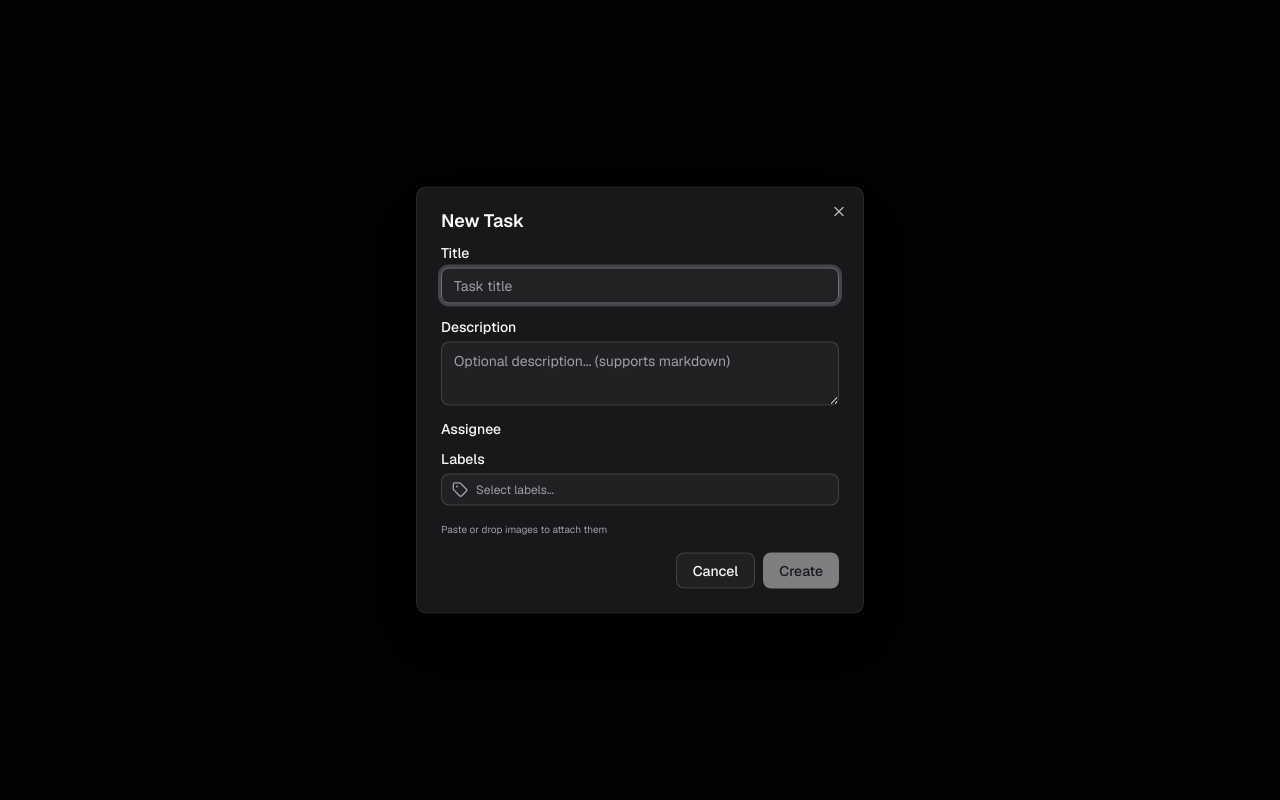
Test: TaskEditDialog — Labels dropdown (plain dropdown, no Radix Popover) › opens the dropdown and renders the label options in-tree
This screenshot has width=1280, height=800.
Click the button "Select labels…". click: (515, 490)
box: [441,474,839,506]
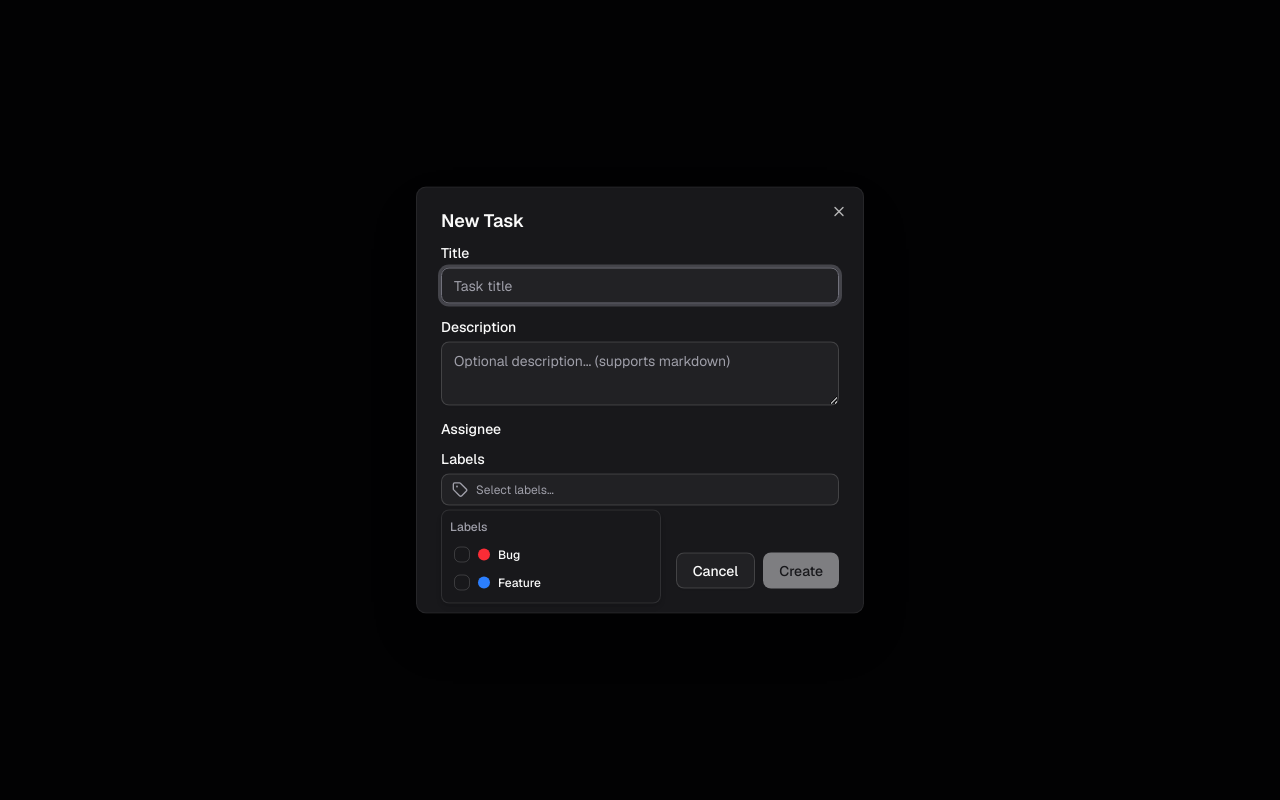
Expected: the dialog is shown, [416,186,864,614]
Now the text "Bug" is shown, box [498,546,520,562]
Now the text "Feature" is shown, box [498,574,541,590]
